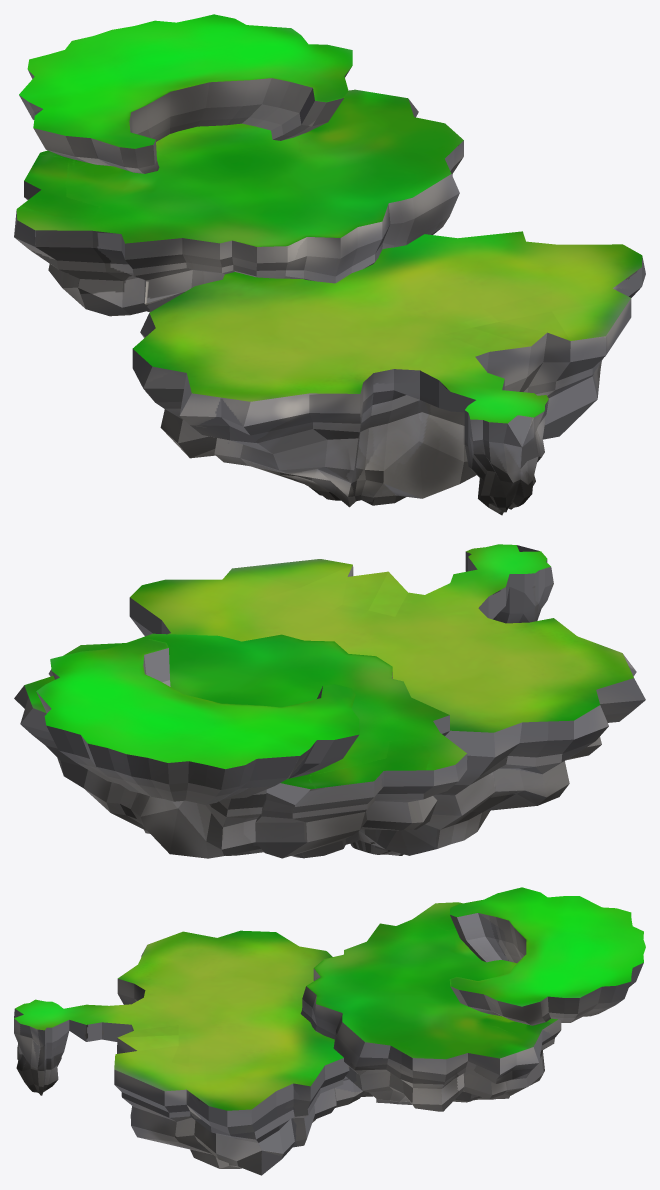
Rendered from ISLES OF APOLLO .fbx.
3 renders of one model, top to bottom at view 1: azimuth 30°, elevation 25°; view 2: azimuth 150°, elevation 25°; view 3: azimuth 270°, elevation 25°, orthographic. The views are drawn at different scales.
Parts seen in each view (by area): view 1: Plat1; view 2: Plat1; view 3: Plat1.
Boxes of the visible parts, x1,y1,x2,y2 form: Plat1: (14,14,645,515); Plat1: (14,544,645,858); Plat1: (14,887,645,1175).
Size of the model in its own units: 450 by 242 by 649.
